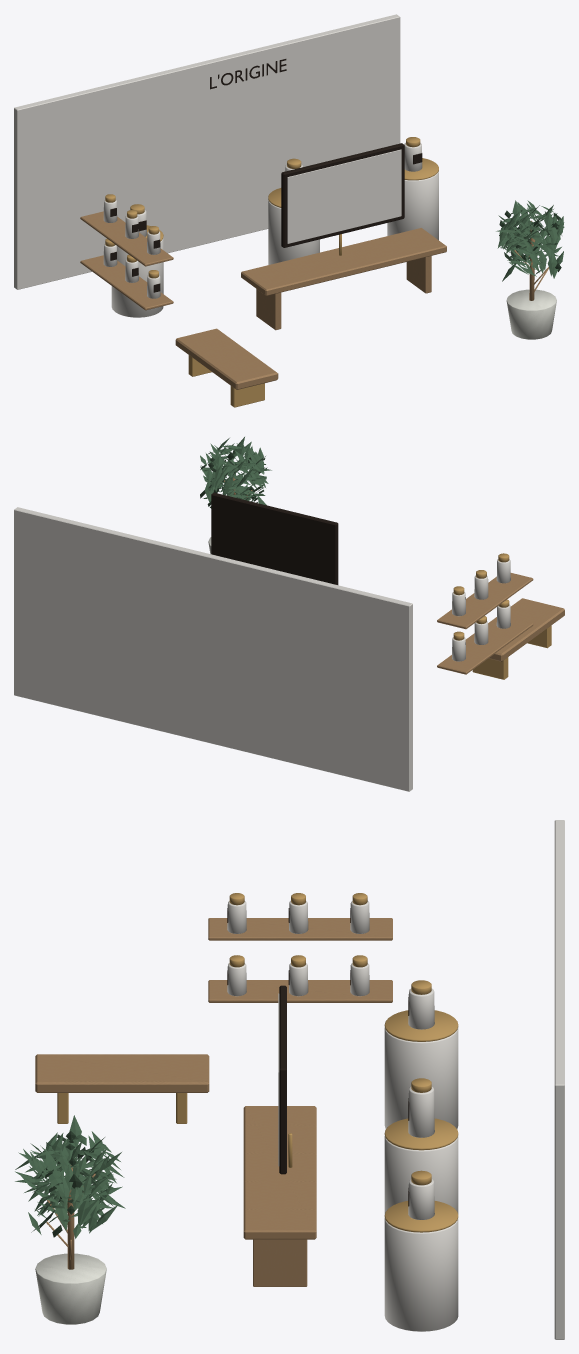
The model's file is room-lorigine-v1.glb.
3 views of the same model, one above another, from view 1: azimuth 30°, elevation 25°; view 2: azimuth 150°, elevation 25°; view 3: azimuth 270°, elevation 25° (orthographic). The views are drawn at different scales.
Visible parts, largest first — view 1: room__lorigine__ivory, room__lorigine__oak, room__lorigine__leaf, room__lorigine__espresso, room__lorigine__champagne, room__lorigine__concrete; view 2: room__lorigine__ivory, room__lorigine__espresso, room__lorigine__oak, room__lorigine__leaf, room__lorigine__champagne; view 3: room__lorigine__ivory, room__lorigine__oak, room__lorigine__champagne, room__lorigine__leaf, room__lorigine__concrete, room__lorigine__espresso.
Boxes of the visible parts, x1,y1,x2,y2 form: room__lorigine__ivory: (14, 14, 438, 317); room__lorigine__oak: (80, 211, 548, 389); room__lorigine__leaf: (496, 200, 564, 281); room__lorigine__espresso: (110, 59, 422, 292); room__lorigine__champagne: (105, 137, 438, 407); room__lorigine__concrete: (506, 289, 556, 339); room__lorigine__ivory: (14, 507, 510, 791); room__lorigine__espresso: (211, 492, 465, 644); room__lorigine__oak: (224, 477, 564, 674); room__lorigine__leaf: (200, 437, 271, 508); room__lorigine__champagne: (453, 553, 551, 679); room__lorigine__ivory: (227, 820, 564, 1339); room__lorigine__oak: (35, 918, 392, 1286); room__lorigine__champagne: (57, 893, 458, 1232); room__lorigine__leaf: (15, 1115, 125, 1238); room__lorigine__concrete: (35, 1253, 106, 1324); room__lorigine__espresso: (227, 908, 409, 1206).
Bounding box in the file's own units: 6.12 × 2.75 × 5.38.
7 materials, 2 textured.
